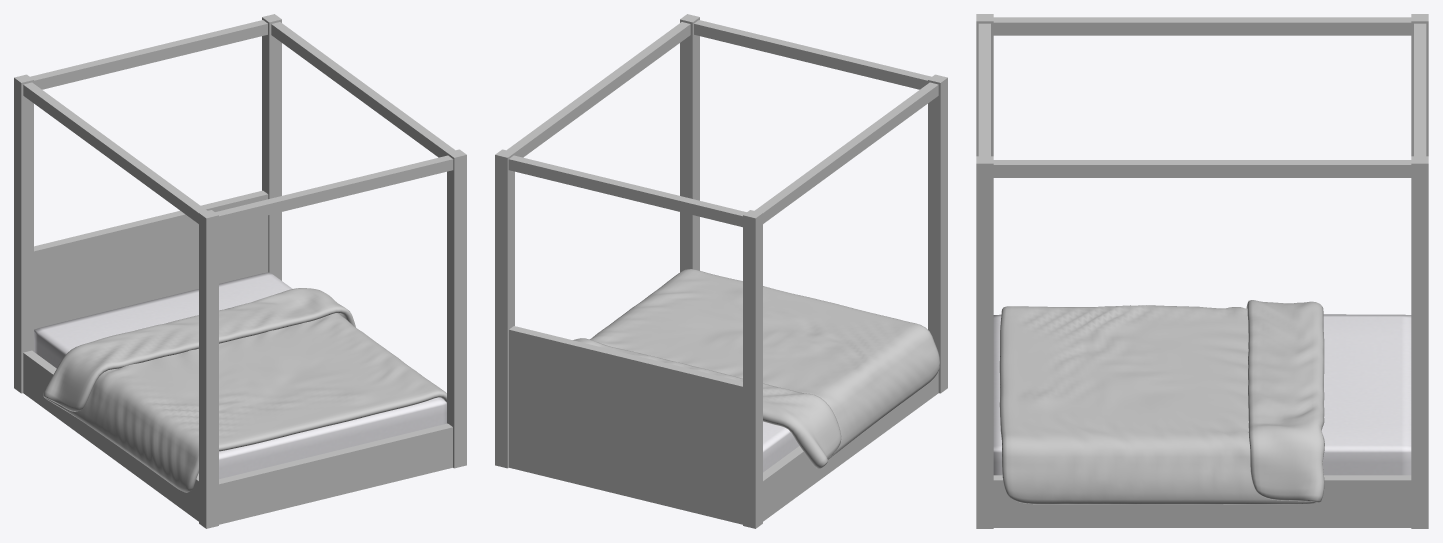
The model's file is Bed32.fbx.
3 renders of one model, left to right at view 1: azimuth 30°, elevation 25°; view 2: azimuth 150°, elevation 25°; view 3: azimuth 270°, elevation 25°, orthographic. The views are drawn at different scales.
Parts seen in each view (by area): view 1: BedFrame32, Blanket32, Mattress32; view 2: BedFrame32, Blanket32, Mattress32; view 3: Blanket32, BedFrame32, Mattress32.
Part boxes in pixels (<box>): BedFrame32: <box>14,14,466,528</box>; Blanket32: <box>43,288,446,492</box>; Mattress32: <box>34,272,446,479</box>; BedFrame32: <box>495,14,947,528</box>; Blanket32: <box>573,269,939,468</box>; Mattress32: <box>763,421,799,472</box>; Blanket32: <box>999,300,1324,504</box>; BedFrame32: <box>976,14,1428,528</box>; Mattress32: <box>993,314,1411,475</box>.
Bounding box in the file's own units: 235 × 233 × 261.
